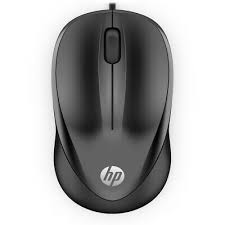hp-mouse-X1000: (36, 2, 193, 213)
